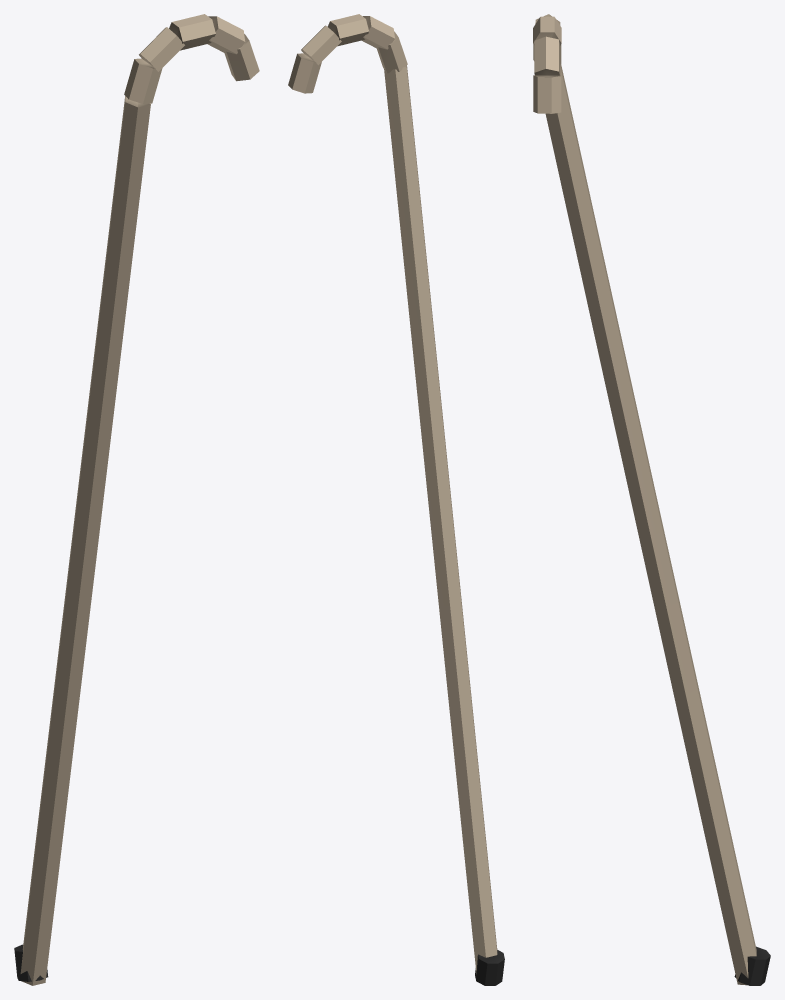
File: walking_stick.glb
3 renders of one model, left to right at view 1: azimuth 30°, elevation 25°; view 2: azimuth 210°, elevation 25°; view 3: azimuth 270°, elevation 25°, orthographic. The views are drawn at different scales.
Visible parts, largest first — view 1: static; view 2: static; view 3: static.
Boxes of the visible parts, x1,y1,x2,y2 form: static: (14,14,259,985); static: (288,14,504,985); static: (533,14,770,985).
Bounding box in the file's own units: 0.1239 × 0.9105 × 0.1997.
